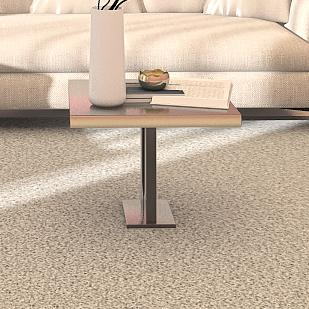table: (66, 77, 241, 229)
